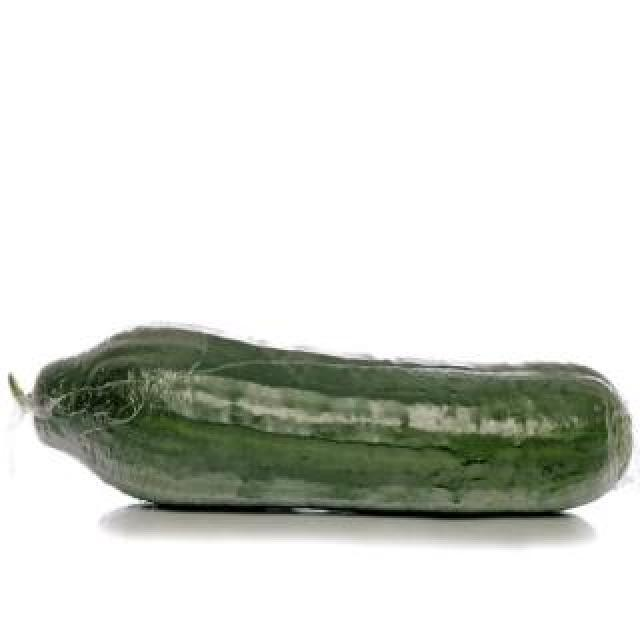cucumber: (21, 319, 634, 522)
